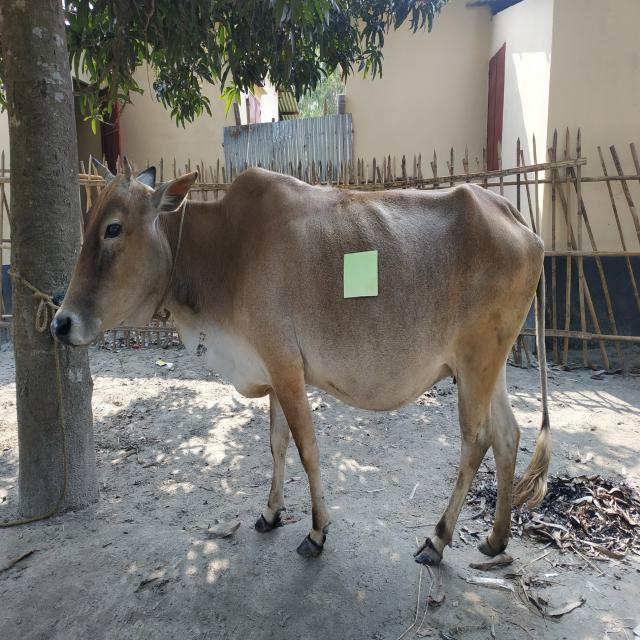badan_sapi: (265, 177, 509, 396)
sapi: (46, 146, 566, 584)
